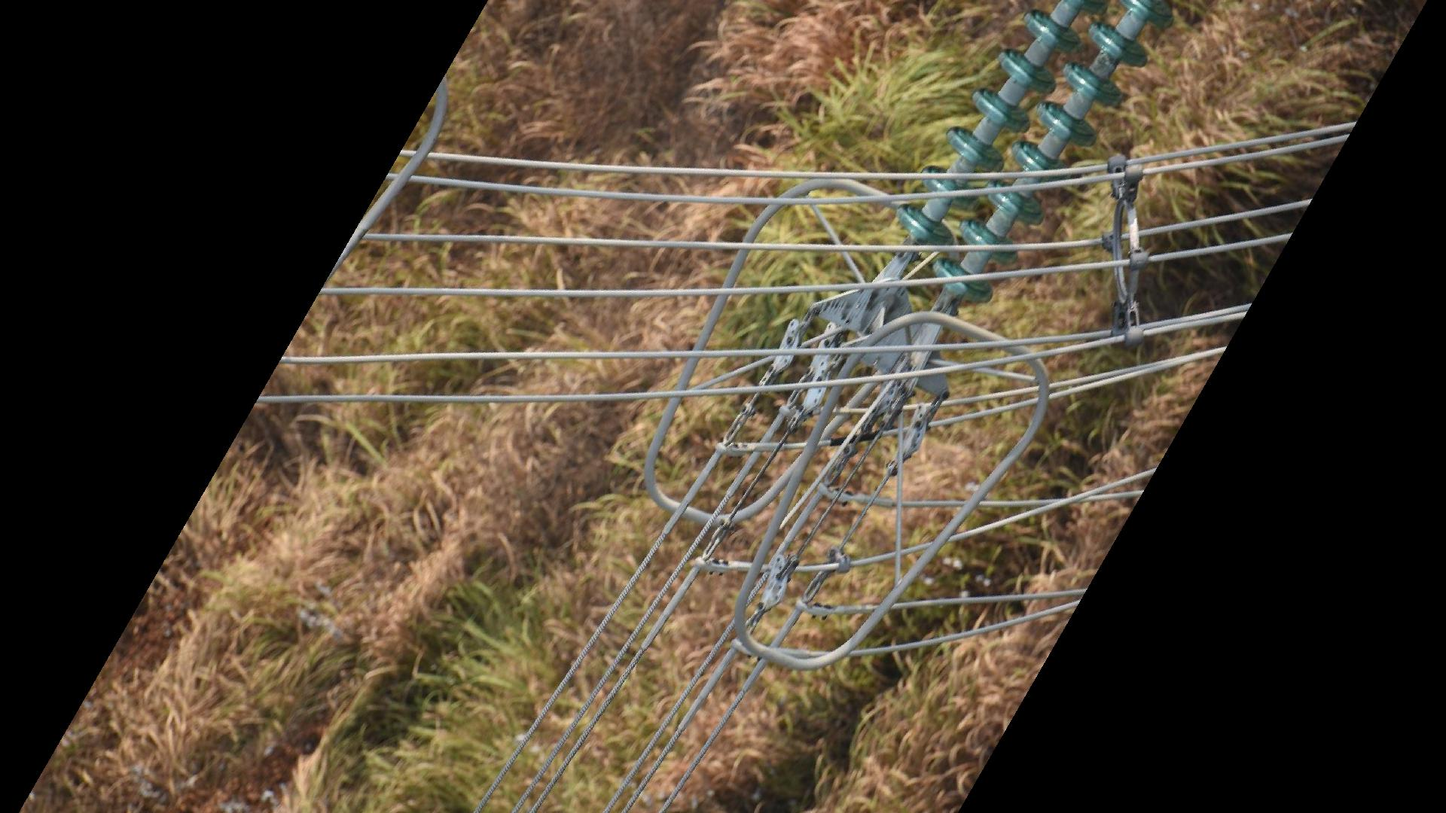insulator: (891, 1, 1181, 308)
